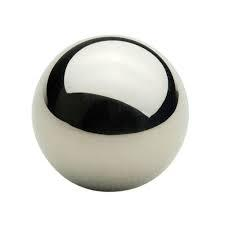steelball: (28, 30, 192, 194)
